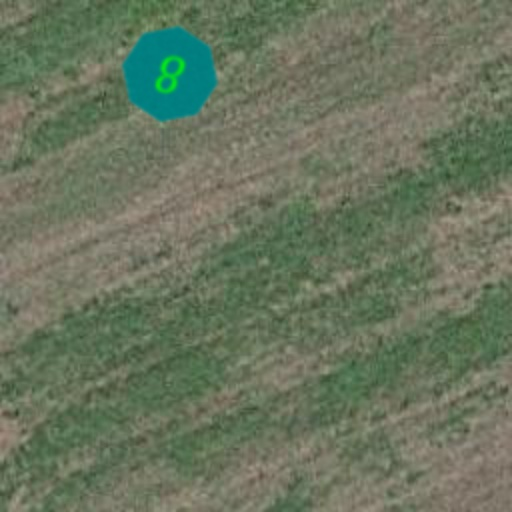octagon: (112, 16, 228, 132)
